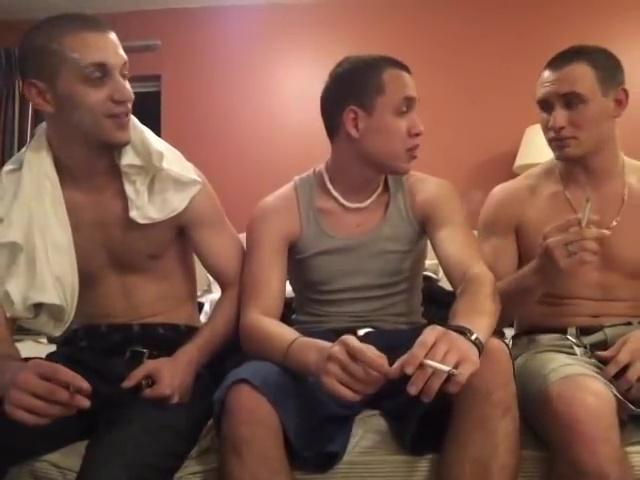cigarette: (419, 356, 461, 376), (581, 195, 595, 231)
